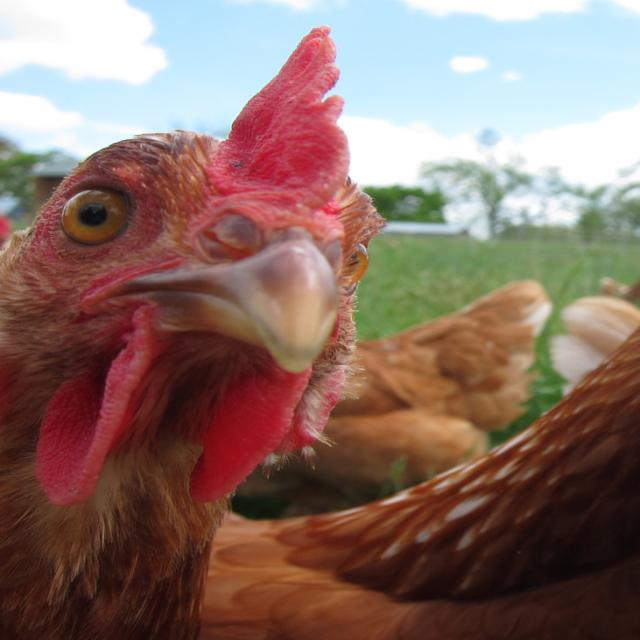Chicken: (0, 1, 435, 617)
